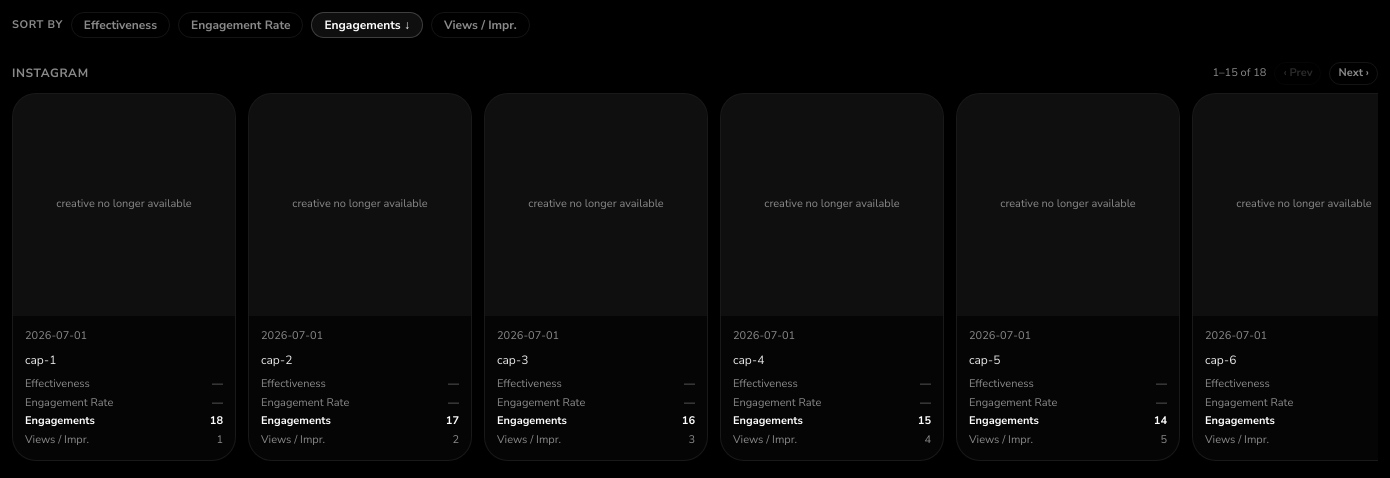
Test case: changing the sort metric resets back to page 1
This screenshot has width=1390, height=478.
Click the button "Next ›".
click(1354, 73)  # box left=1330, top=62, right=1378, bottom=84
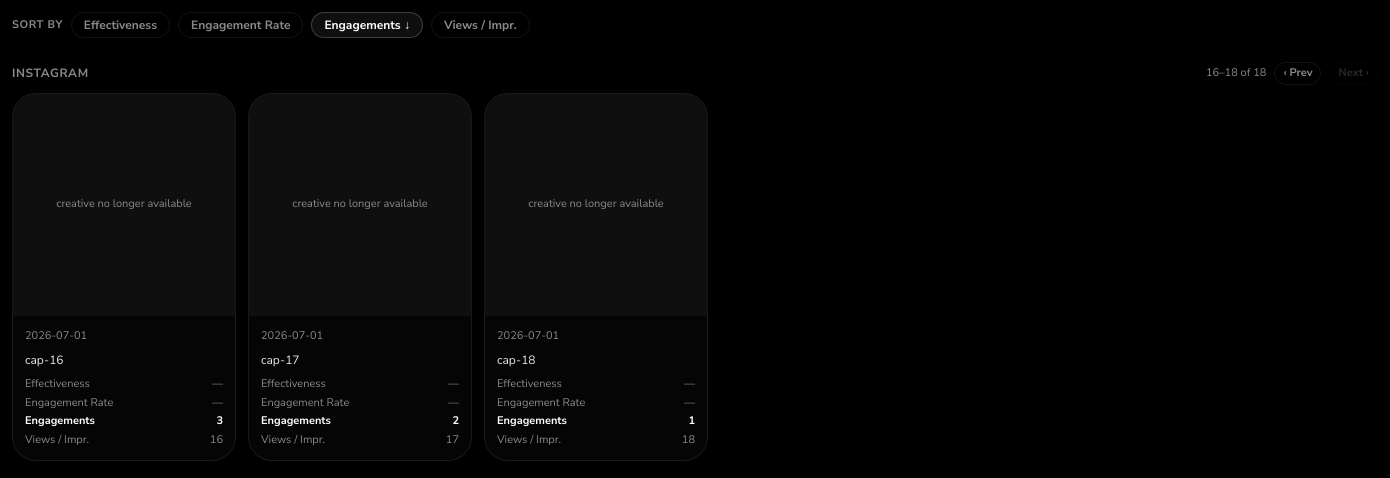
Expected: the text "16–18 of 18" is shown, left=1206, top=65, right=1266, bottom=82
Click the button "Views / Impr.".
click(480, 25)  # box left=431, top=12, right=530, bottom=38
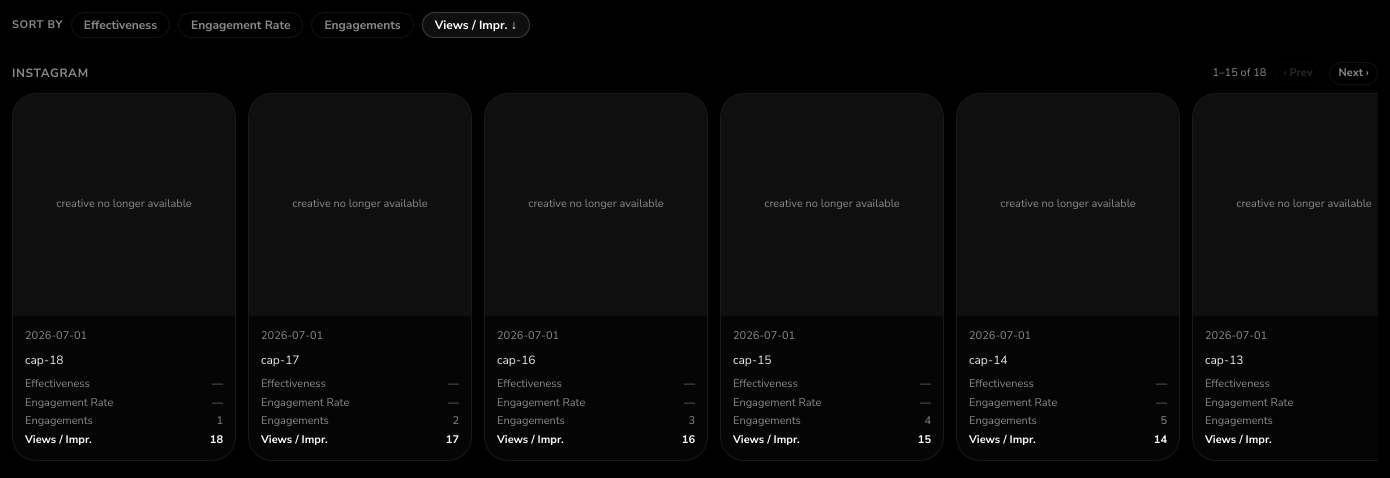
Expected: the text "1–15 of 18" is shown, left=1212, top=65, right=1266, bottom=82
